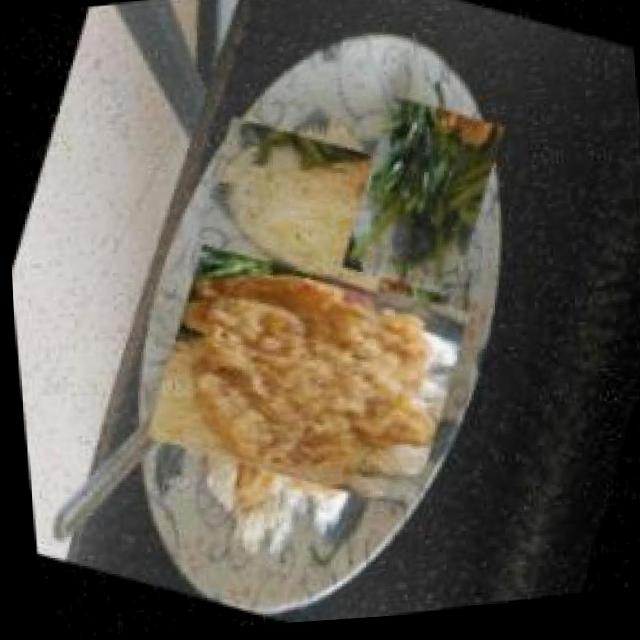fried_chicken: (135, 206, 474, 551)
fried_eggs: (191, 94, 417, 323)
water_spinach: (324, 88, 520, 316)
